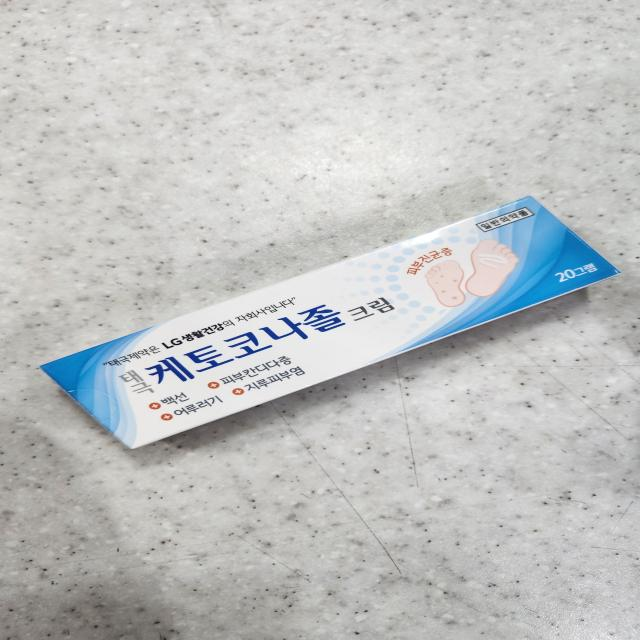box: (41, 198, 619, 447)
